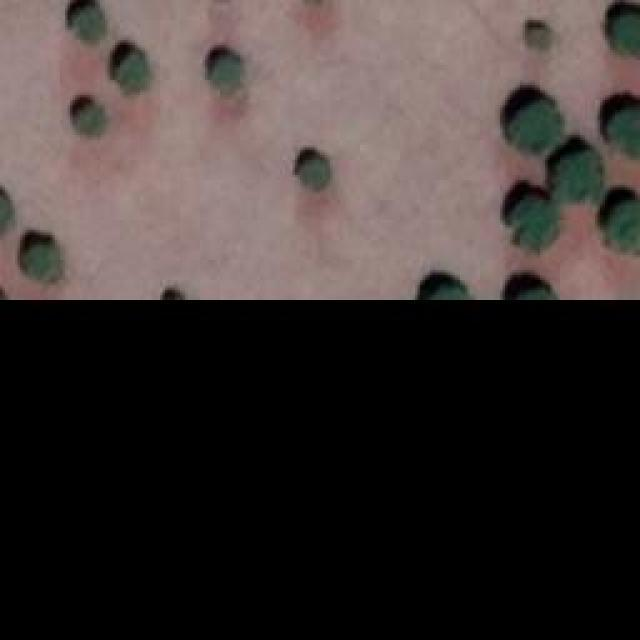Tree: (513, 100, 566, 150), (520, 190, 563, 250), (555, 148, 603, 201), (27, 240, 65, 283), (612, 8, 640, 61), (610, 110, 640, 158), (610, 205, 640, 253), (73, 103, 106, 136), (115, 58, 148, 91), (73, 13, 108, 43), (525, 25, 558, 53), (218, 58, 248, 88), (300, 160, 328, 190), (0, 198, 15, 233)
